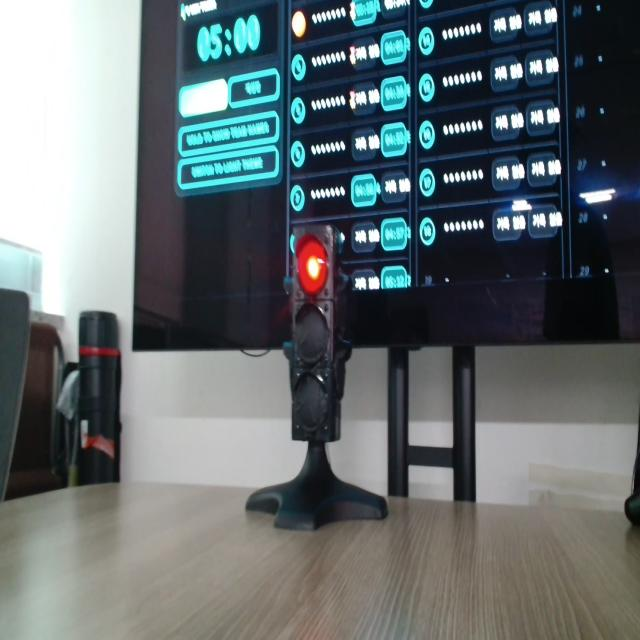red_light: (296, 235, 327, 295)
